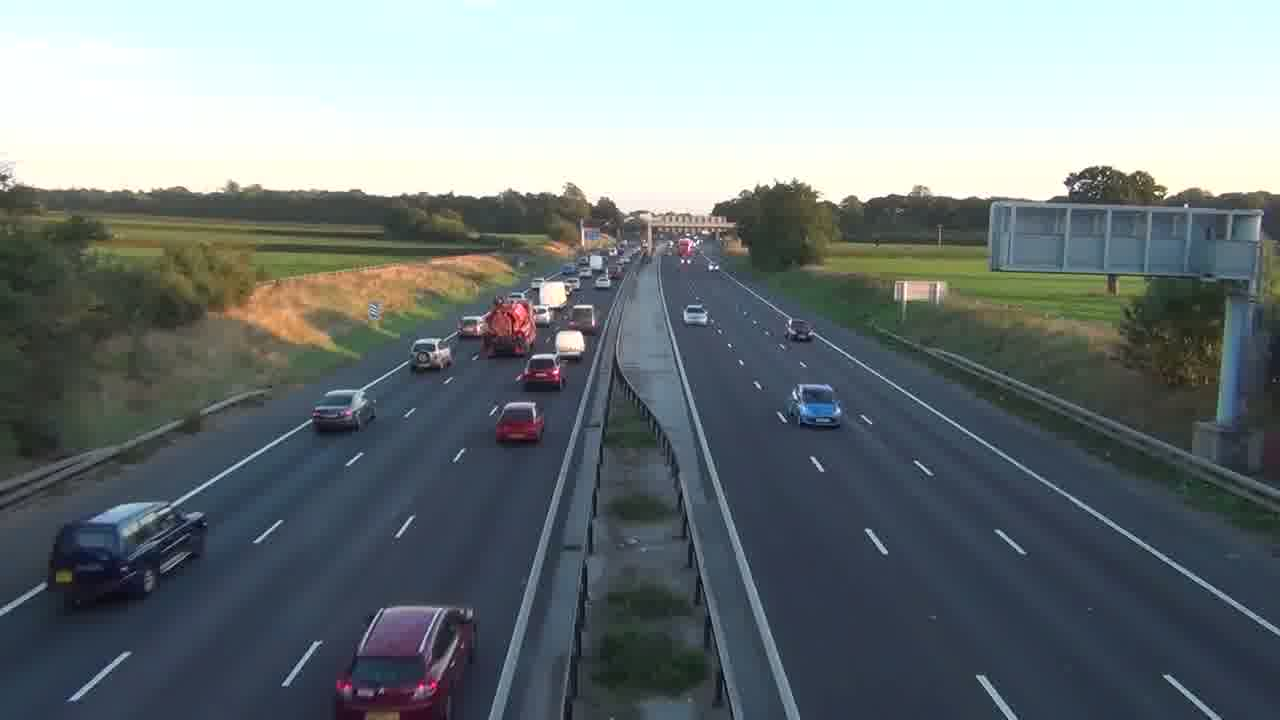car: (334, 603, 479, 718), (310, 388, 376, 434), (784, 383, 843, 428), (495, 399, 546, 445), (518, 353, 564, 390), (683, 304, 708, 325)
truck: (47, 499, 208, 610), (480, 298, 536, 358)
